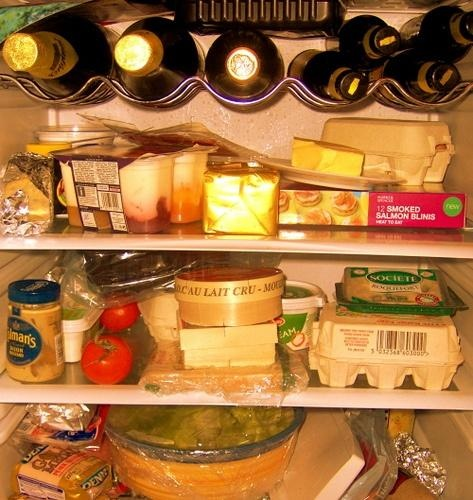bottle: (113, 13, 202, 110), (2, 20, 111, 98), (202, 24, 290, 113), (288, 40, 364, 107), (397, 5, 473, 65), (380, 52, 465, 103), (338, 14, 402, 66)
